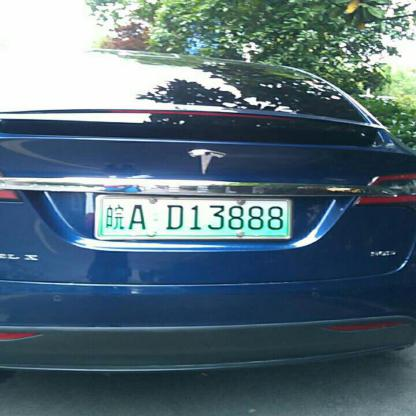lp: (99, 197, 288, 238)
